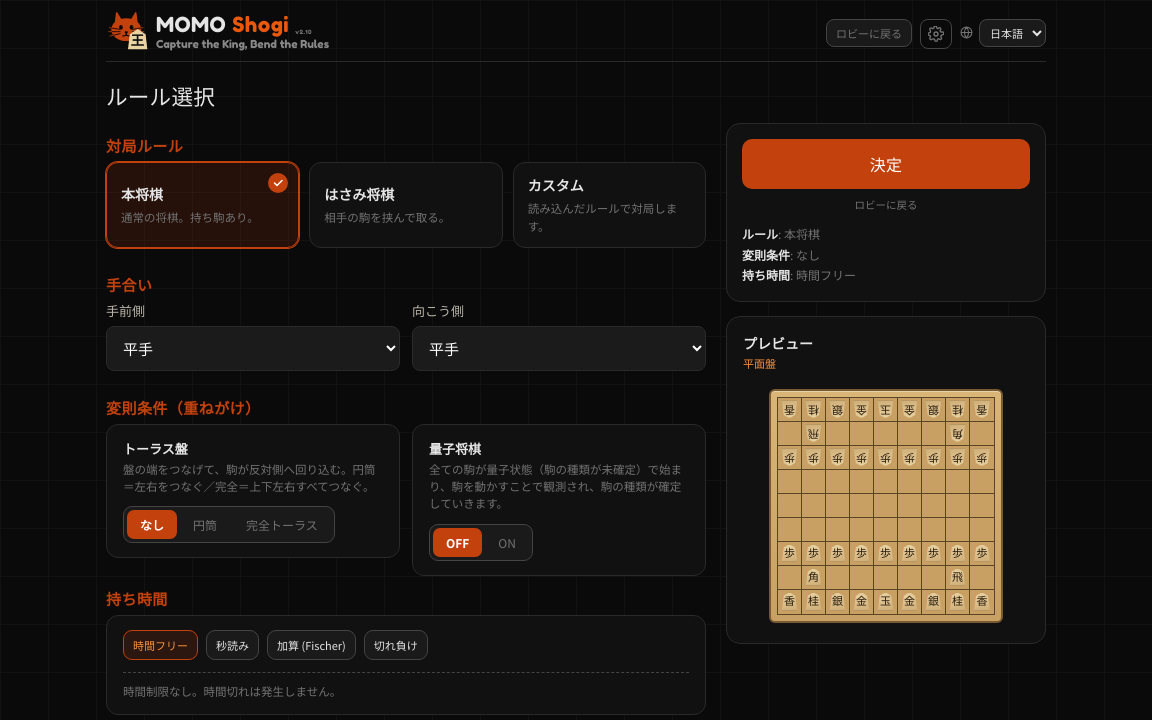
Scenario: S02 カスタムの札から読み込んだルールを選ぶ (仕様 S02 のルール一覧) › 一覧が取れなくても、同梱の既定 (チェス) で選んだ状態は保つ (定義の無い custom は作らない)
The width and height of the screenshot is (1152, 720).
Click the text "カスタム": click(556, 185) [528, 175, 584, 195]
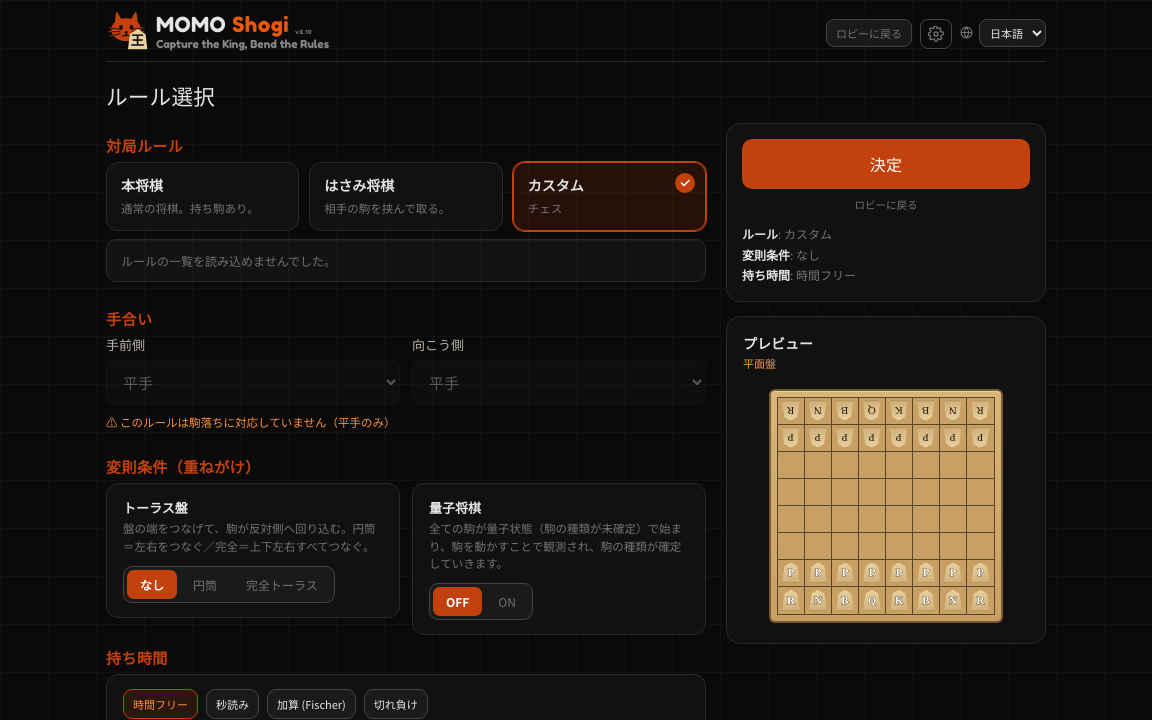
Expected: the text "ルールの一覧を読み込めませんでした。" is shown, [121, 252, 336, 269]
